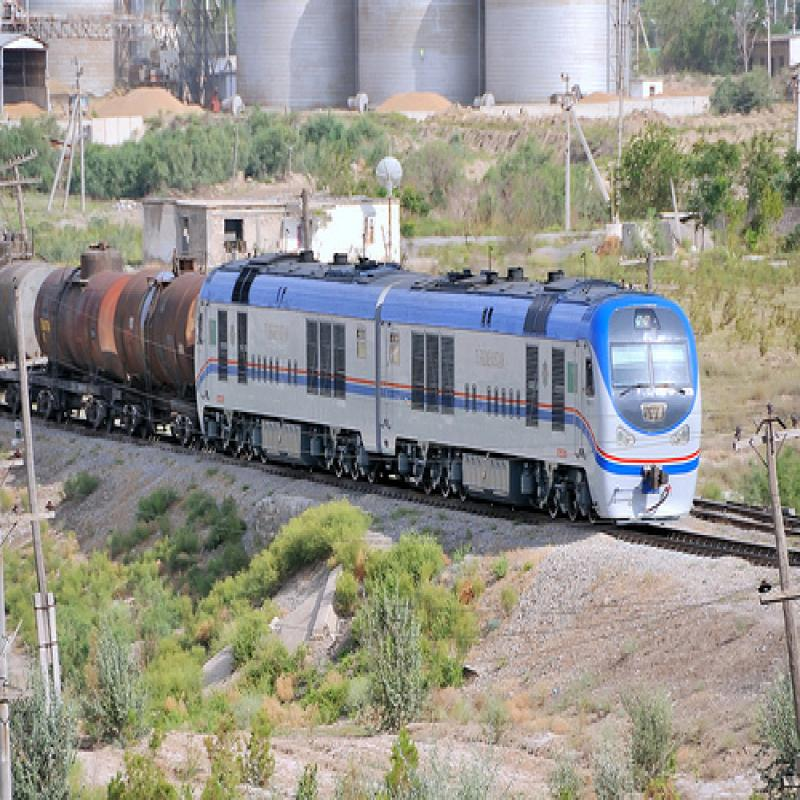train: (3, 240, 699, 534)
